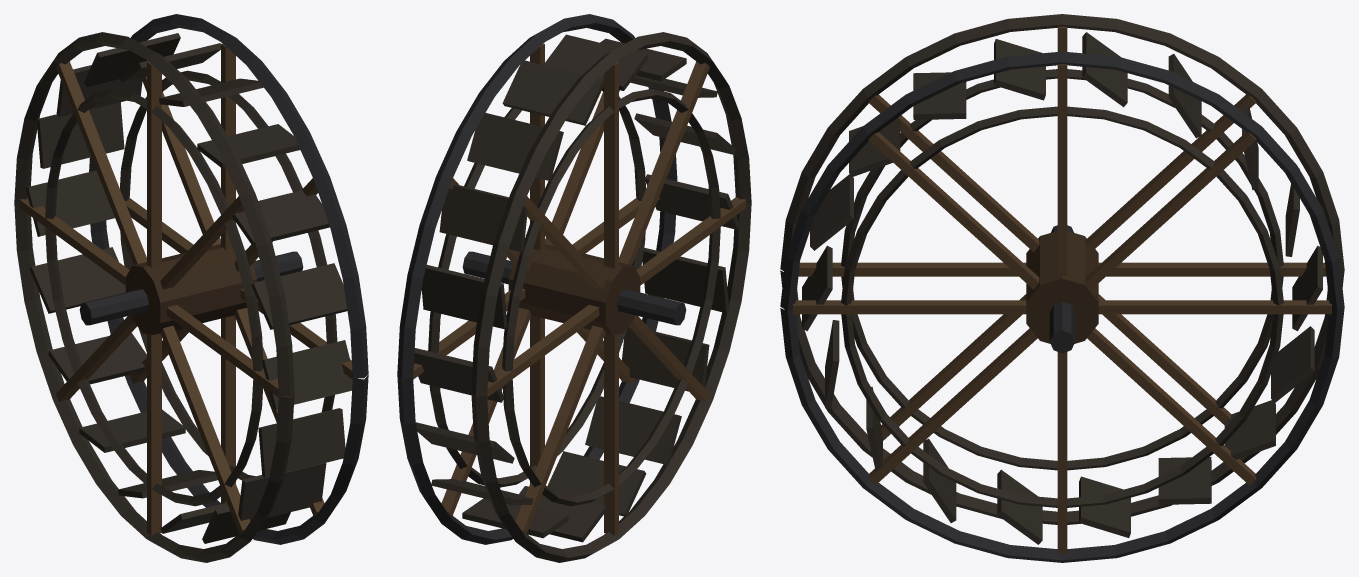
Rendered from mill-wheel.glb.
3 renders of one model, left to right at view 1: azimuth 30°, elevation 25°; view 2: azimuth 150°, elevation 25°; view 3: azimuth 270°, elevation 25°, orthographic. The views are drawn at different scales.
Parts seen in each view (by area): view 1: mill-wheel; view 2: mill-wheel; view 3: mill-wheel.
Boxes of the visible parts, <box> form: mill-wheel: <box>14,14,368,562</box>; mill-wheel: <box>397,14,751,562</box>; mill-wheel: <box>780,14,1344,562</box>.
Size of the model in its own units: 2.4 by 5.34 by 5.34.
